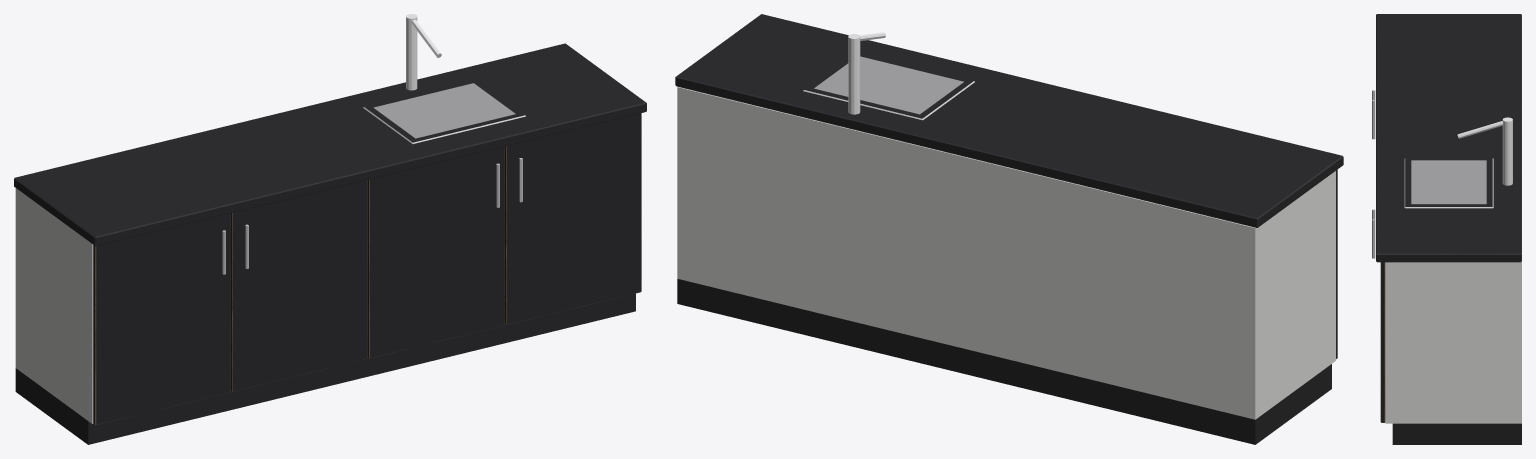
The model's file is kitchen_base_units.glb.
The picture shows the model from 3 angles, left to right: view 1: azimuth 30°, elevation 25°; view 2: azimuth 150°, elevation 25°; view 3: azimuth 270°, elevation 25°; orthographic projection. The views are drawn at different scales.
Parts seen in each view (by area): view 1: kitchen_base_units; view 2: kitchen_base_units; view 3: kitchen_base_units.
Boxes of the visible parts, bbox=[...] form: kitchen_base_units: bbox=[14, 14, 646, 444]; kitchen_base_units: bbox=[675, 14, 1343, 444]; kitchen_base_units: bbox=[1372, 14, 1521, 444].
Size of the model in its own units: 2.42 by 1.2 by 0.637.
Materials: 7 (2 with a texture image).
